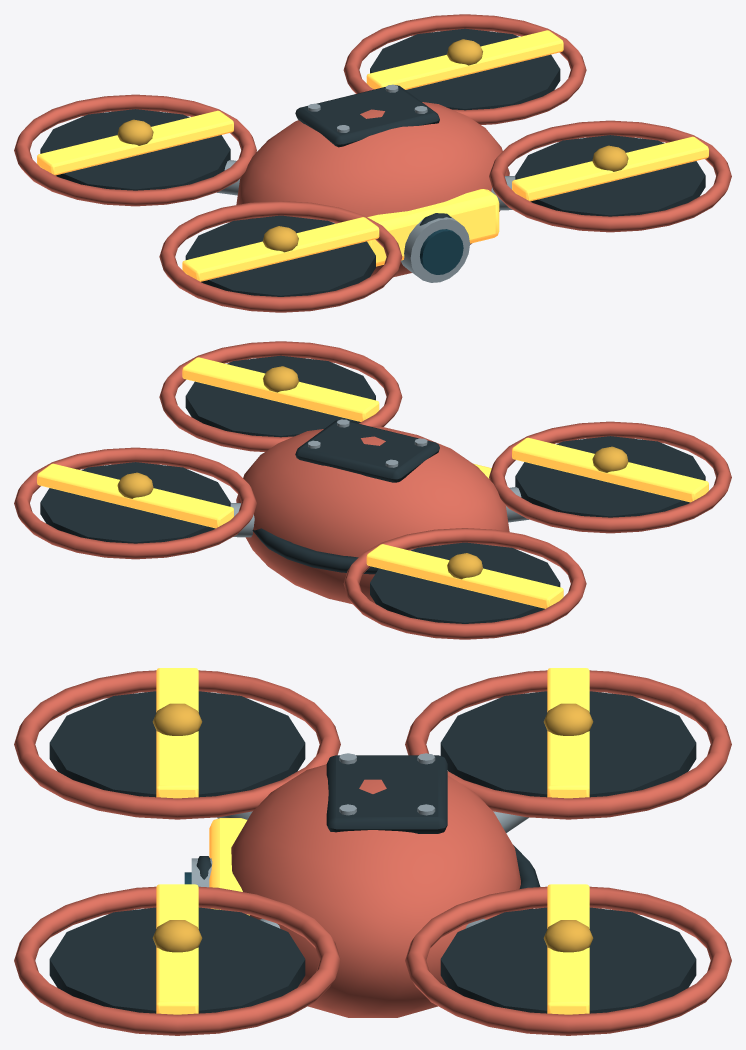
The model's file is rust_drone.glb.
3 views of the same model, one above another, from view 1: azimuth 30°, elevation 25°; view 2: azimuth 150°, elevation 25°; view 3: azimuth 270°, elevation 25° (orthographic). The views are drawn at different scales.
Visible parts, largest first — view 1: DroneCore, Rotor.002, Rotor, Rotor.001, Rotor.003, BatteryHatch, RotorBlade, RotorBlade.001, RotorBlade.002, RotorBlade.003, AngryVisor, MotorCap (+2 smaller); view 2: DroneCore, Rotor.003, Rotor.001, Rotor, Rotor.002, BatteryHatch, RotorBlade.002, RotorBlade.001, RotorBlade, RotorBlade.003, MotorCap, CameraHousing; view 3: DroneCore, Rotor.002, Rotor.003, Rotor, Rotor.001, BatteryHatch, MotorCap, RotorBlade.002, RotorBlade.003, RotorBlade, RotorBlade.001, AngryVisor (+1 smaller).
Part boxes in pixels (x1,y1,x2,y2): DroneCore: (14, 14, 731, 312); Rotor.002: (515, 135, 705, 216); Rotor: (185, 215, 375, 296); Rotor.001: (40, 109, 230, 190); Rotor.003: (370, 28, 560, 110); BatteryHatch: (295, 85, 451, 225); RotorBlade: (182, 217, 379, 281); RotorBlade.001: (37, 110, 233, 175); RotorBlade.002: (512, 136, 708, 201); RotorBlade.003: (366, 30, 563, 89); AngryVisor: (367, 189, 499, 266); MotorCap: (117, 39, 628, 252); DroneCore: (14, 341, 731, 639); Rotor.003: (40, 462, 230, 543); Rotor.001: (370, 542, 560, 623); Rotor: (515, 436, 705, 517); Rotor.002: (185, 355, 375, 437); BatteryHatch: (252, 419, 439, 574); RotorBlade.002: (182, 357, 379, 421); RotorBlade.001: (366, 544, 563, 608); RotorBlade: (512, 437, 708, 502); RotorBlade.003: (37, 463, 233, 528); MotorCap: (117, 366, 628, 579); CameraHousing: (230, 419, 528, 550); DroneCore: (14, 670, 731, 1035); Rotor.002: (49, 907, 305, 1013); Rotor.003: (440, 907, 696, 1013); Rotor: (49, 691, 305, 797); Rotor.001: (440, 691, 696, 797); BatteryHatch: (196, 755, 540, 909); MotorCap: (152, 703, 593, 952); RotorBlade.002: (156, 884, 198, 1014); RotorBlade.003: (547, 884, 589, 1014); RotorBlade: (156, 668, 198, 798); RotorBlade.001: (547, 668, 589, 798); AngryVisor: (209, 818, 249, 915).
Bounding box in the file's own units: 2.36 × 0.6475 × 2.02.
